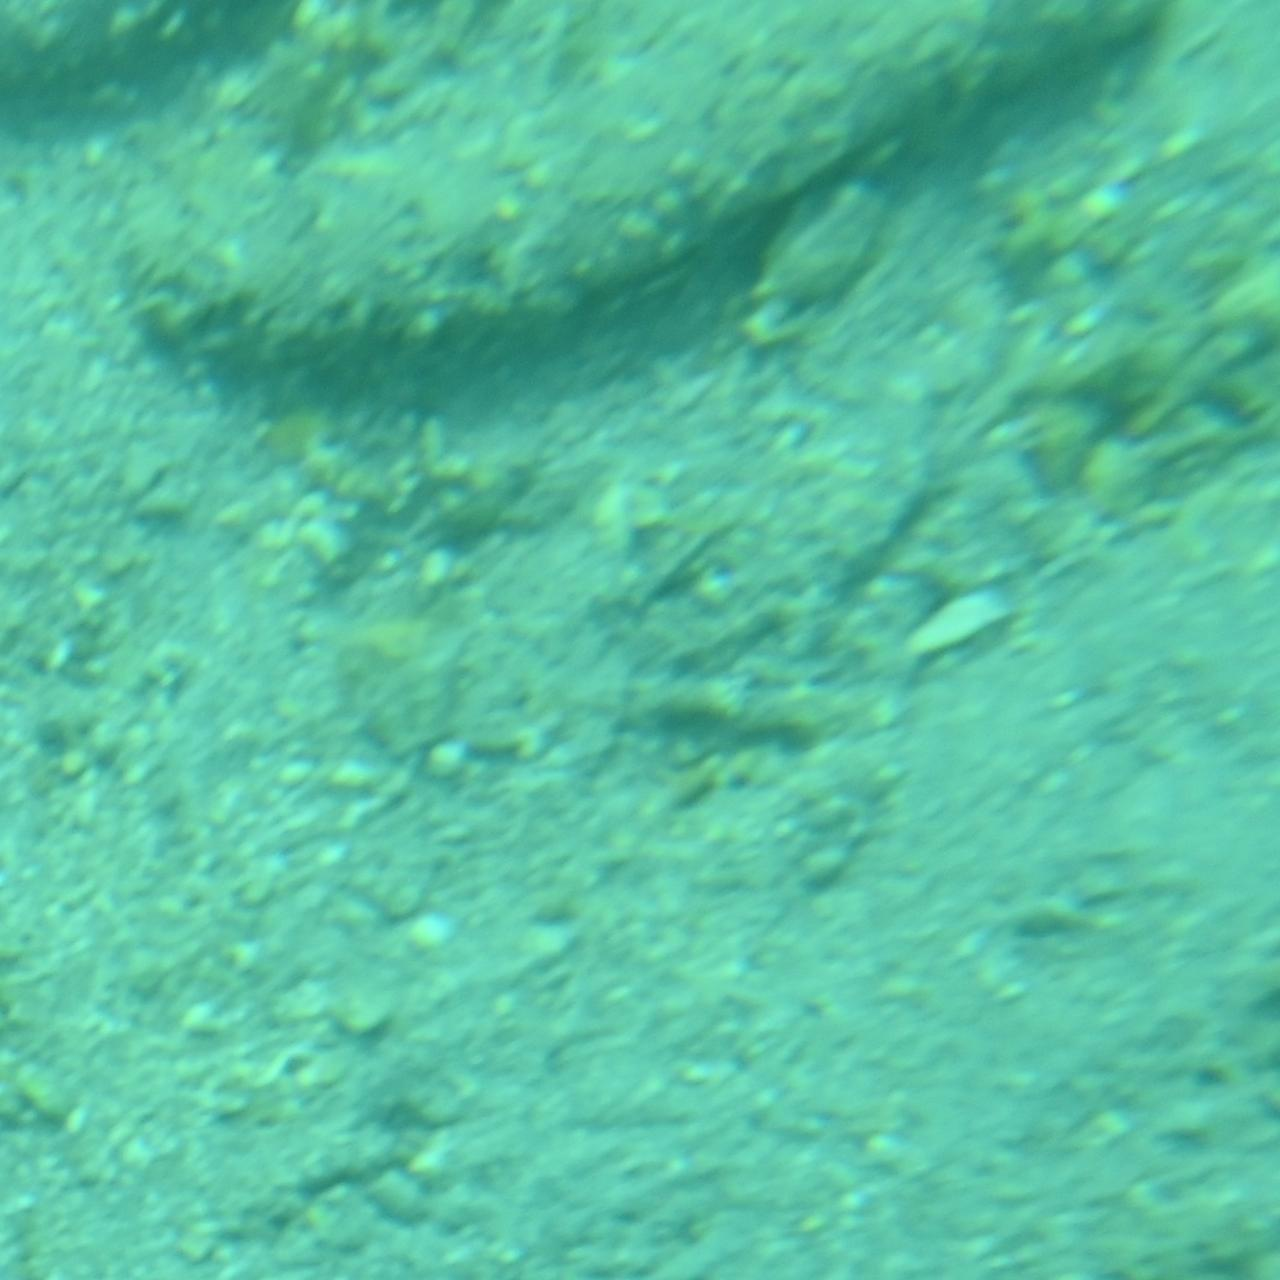Holothuria tubulosa: (92, 1, 1188, 425)
